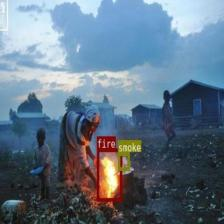fire: (96, 148, 122, 201)
smoke: (118, 152, 129, 169)
